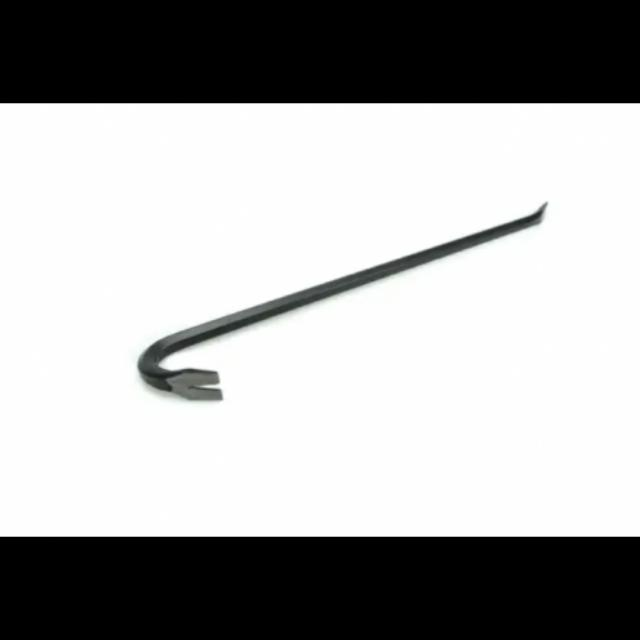crow bar: (98, 192, 554, 412)
